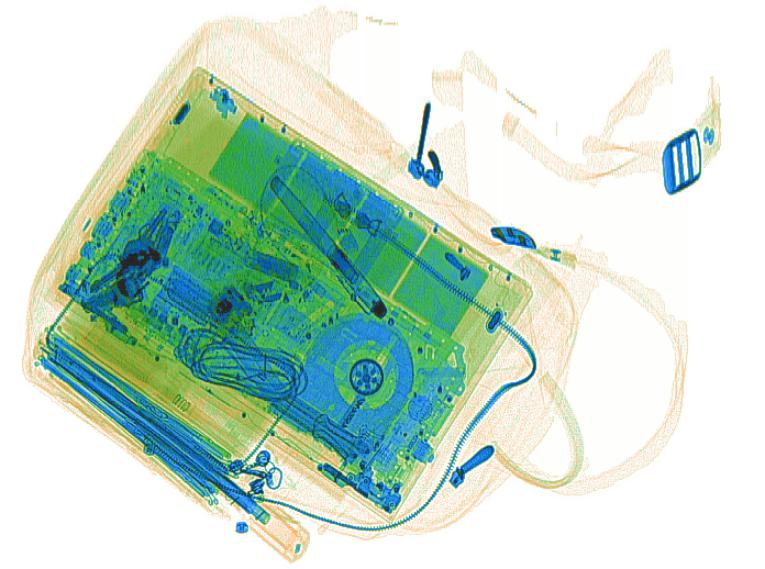battery: (241, 249, 302, 282)
plasticBottleWithaNozzle: (76, 317, 199, 422)
